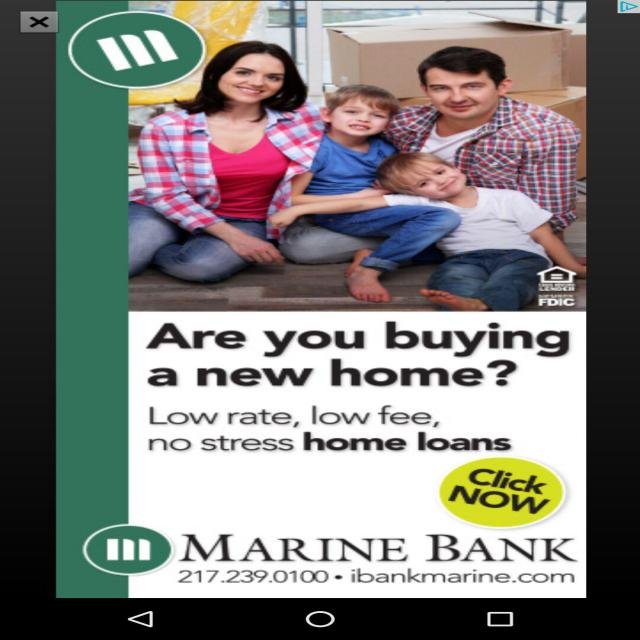button: (12, 13, 59, 36)
image: (57, 7, 590, 599)
